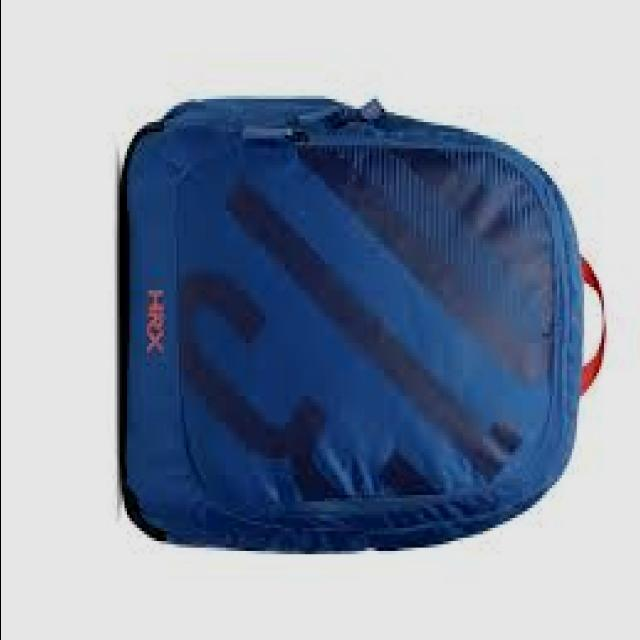backpack: (119, 94, 609, 556)
